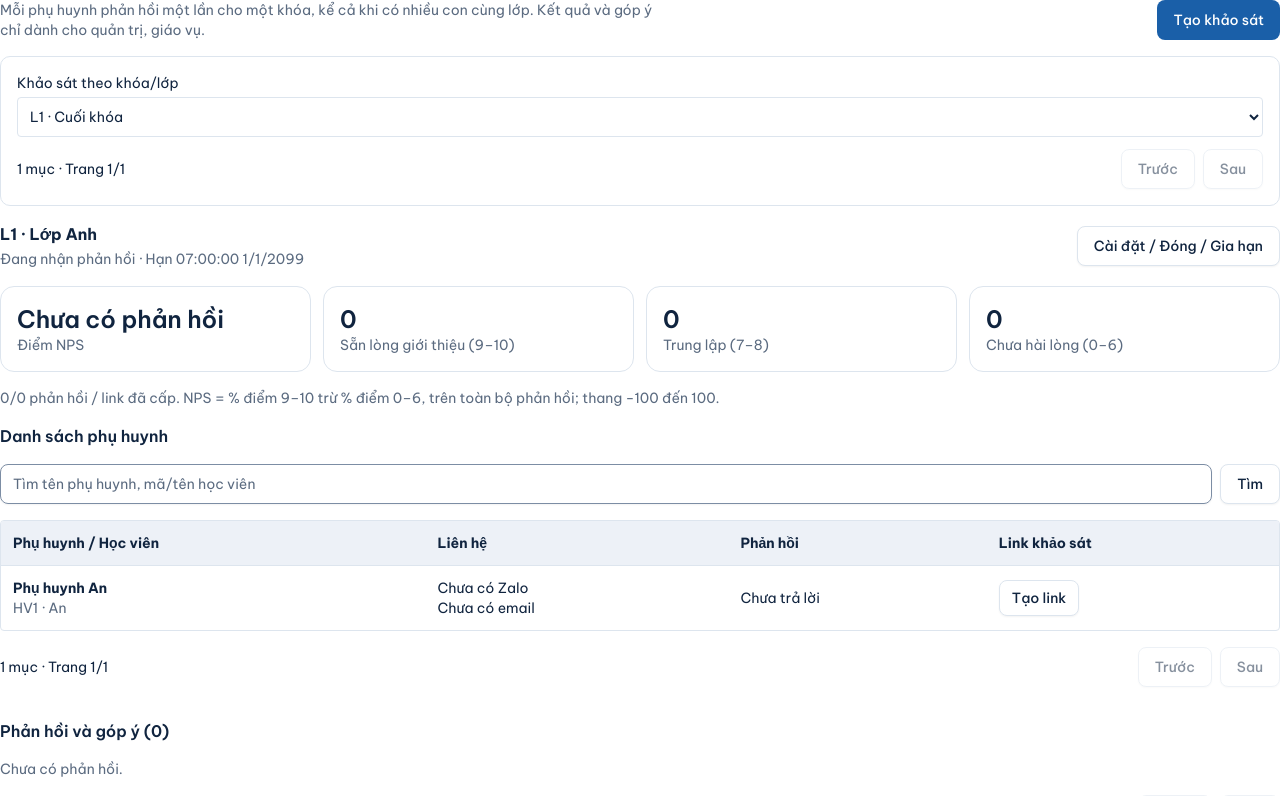
Test case: shows no NPS rather than zero before any responses and confirms link creation
The width and height of the screenshot is (1280, 796).
Expected: the text "Chưa có phản hồi" is shown, [17,304,224,334]
Click the button "Tạo link". click: (1039, 598)
box: [999,580,1079,616]
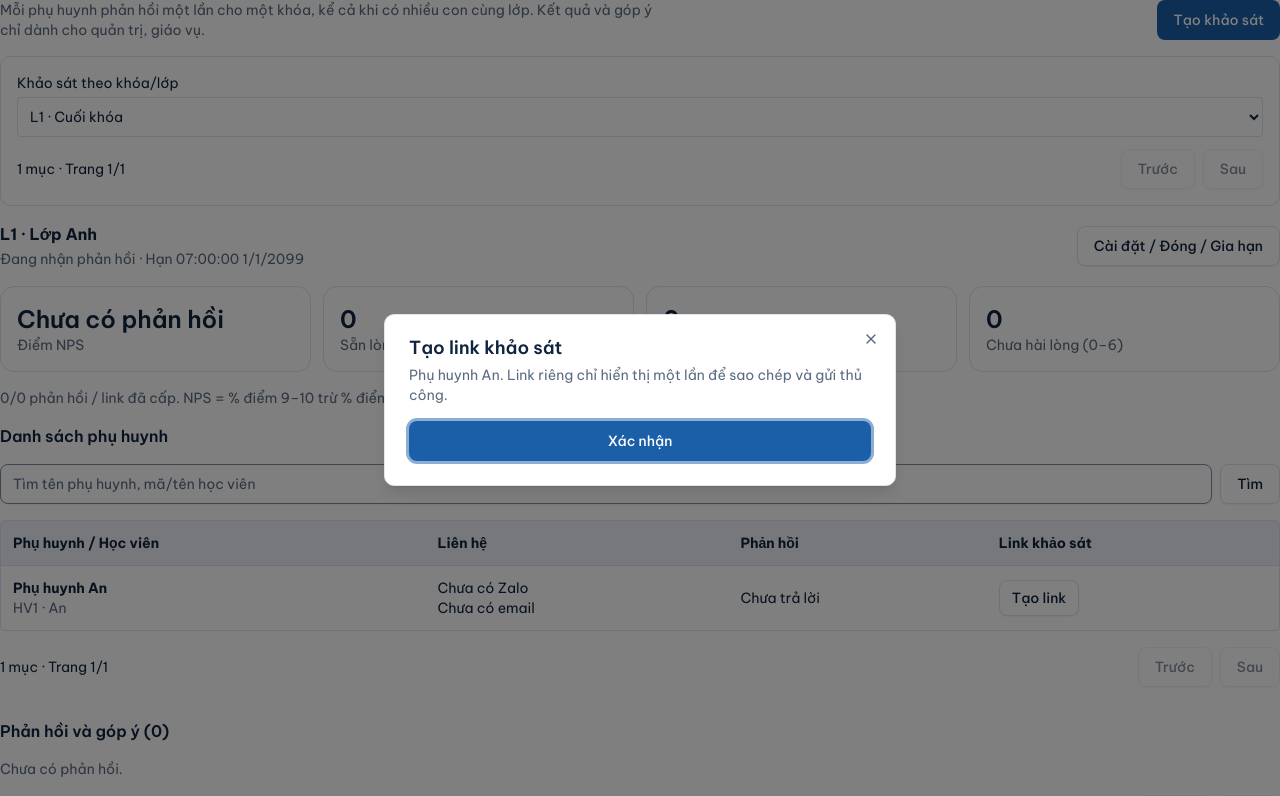
Click the button "Xác nhận". click: (640, 441)
box: [409,421,871,461]
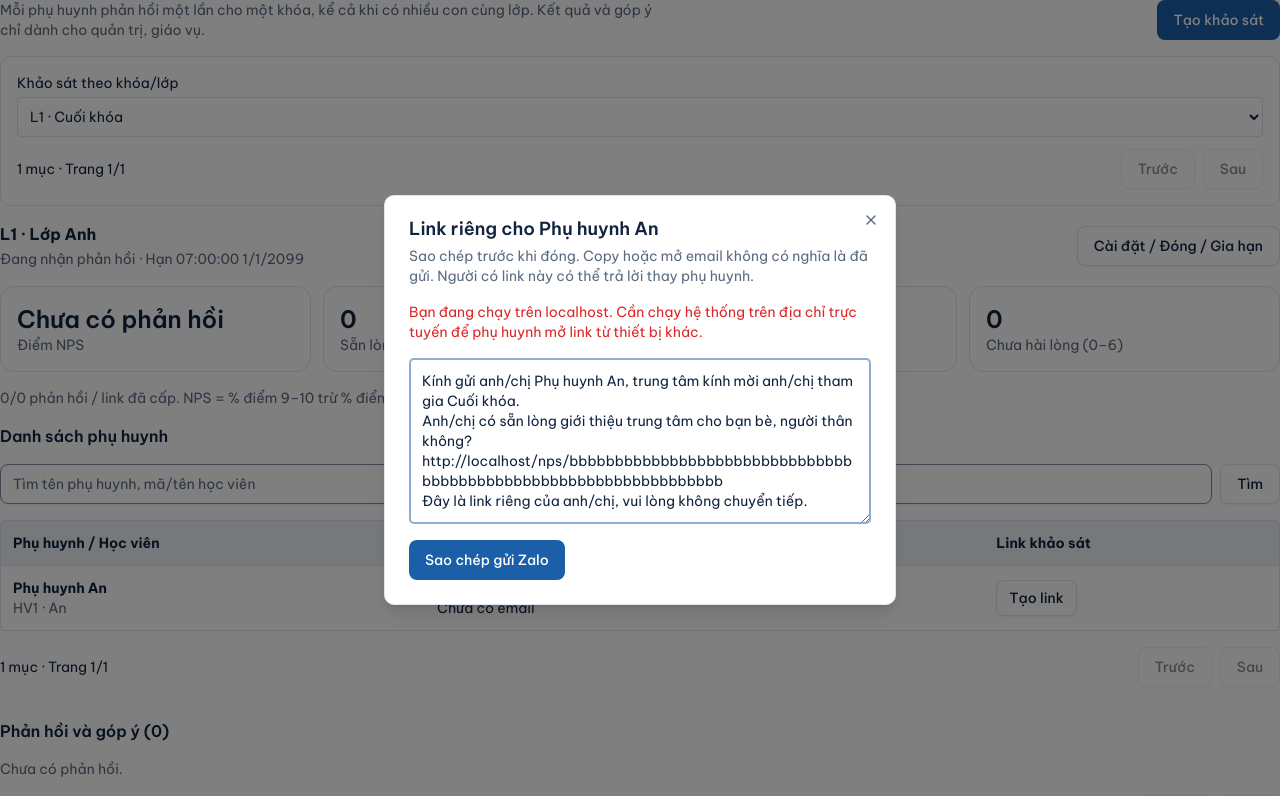
Expected: the text box named "Nội dung gửi phụ huynh" is shown, [409,358,871,524]
